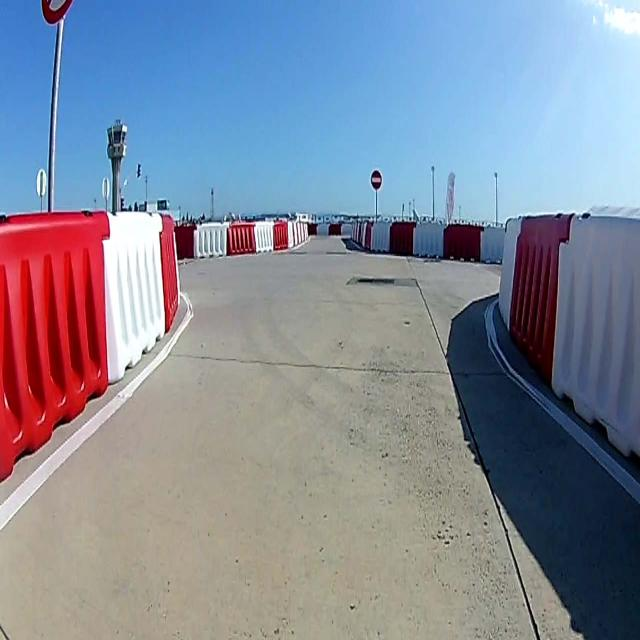girisyok: (370, 169, 382, 191)
